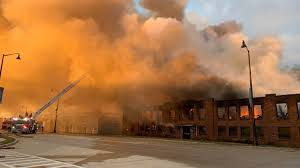smoke: (1, 1, 148, 131), (193, 24, 299, 94), (150, 1, 189, 101)
